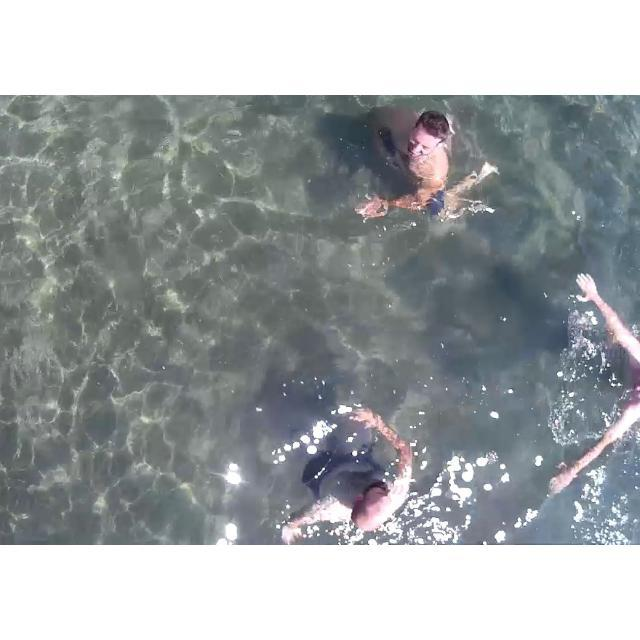human: (351, 95, 516, 246)
